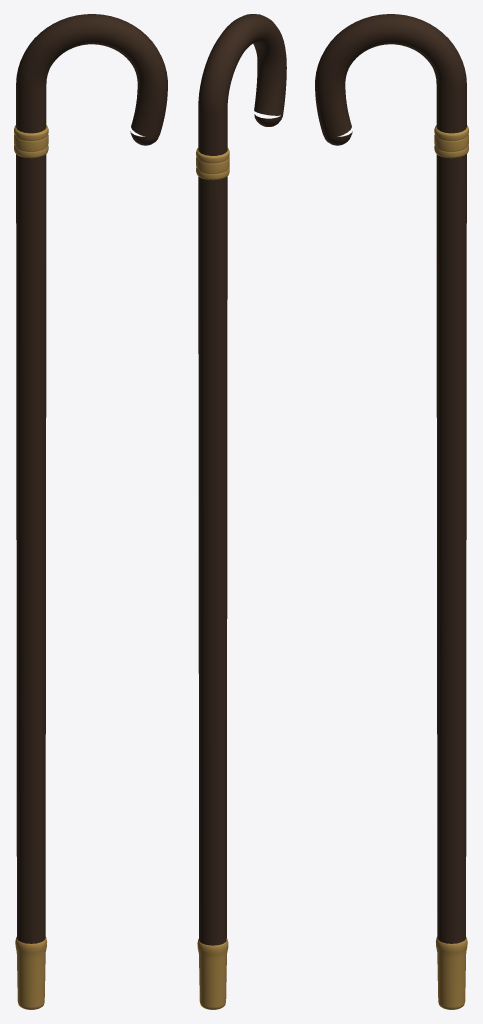
The model's file is cane.glb.
The picture shows the model from 3 angles, left to right: view 1: azimuth 90°, elevation 25°; view 2: azimuth 150°, elevation 25°; view 3: azimuth 270°, elevation 25°; orthographic projection. The views are drawn at different scales.
Visible parts, largest first — view 1: cane, tip; view 2: cane, tip; view 3: cane, tip.
Part boxes in pixels (bbox=[...]): cane: bbox=[14, 14, 167, 943]; tip: bbox=[15, 937, 46, 1009]; cane: bbox=[196, 14, 286, 945]; tip: bbox=[197, 939, 228, 1009]; cane: bbox=[315, 14, 468, 943]; tip: bbox=[436, 937, 467, 1009].
Size of the model in its own units: 0.0284 by 0.8985 by 0.1267.
